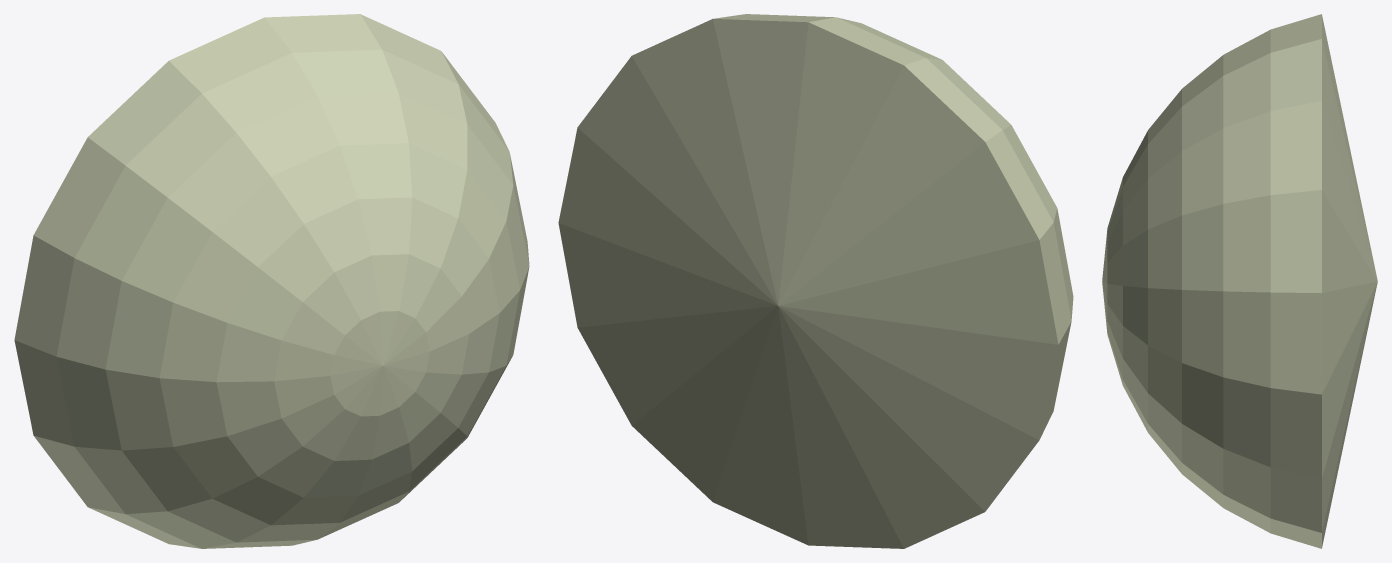
The model's file is Ant_Gnd.obj.
The picture shows the model from 3 angles, left to right: view 1: azimuth 30°, elevation 25°; view 2: azimuth 150°, elevation 25°; view 3: azimuth 270°, elevation 25°; orthographic projection. The views are drawn at different scales.
Visible parts, largest first — view 1: Ant_Gnd; view 2: Ant_Gnd; view 3: Ant_Gnd.
Boxes of the visible parts, left/top/right/bottom form: Ant_Gnd: left=14, top=14, right=529, bottom=548; Ant_Gnd: left=558, top=14, right=1073, bottom=548; Ant_Gnd: left=1102, top=14, right=1377, bottom=548.
Size of the model in its own units: 1.96 by 1.96 by 1.01.
